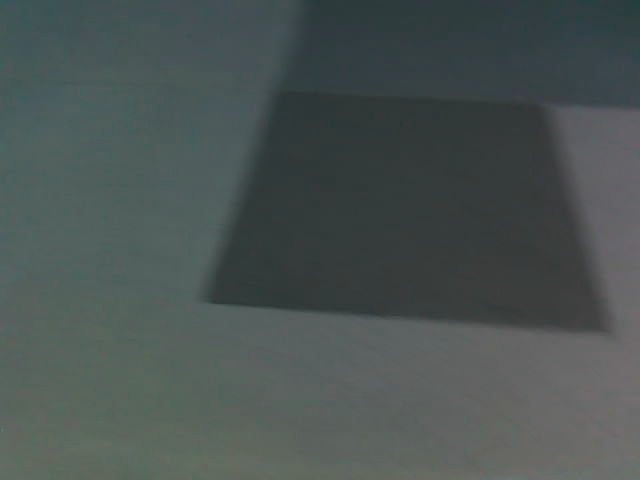其他障碍物: (229, 258, 317, 311)
小玩具: (298, 112, 374, 228)
数据线: (171, 208, 275, 325)
